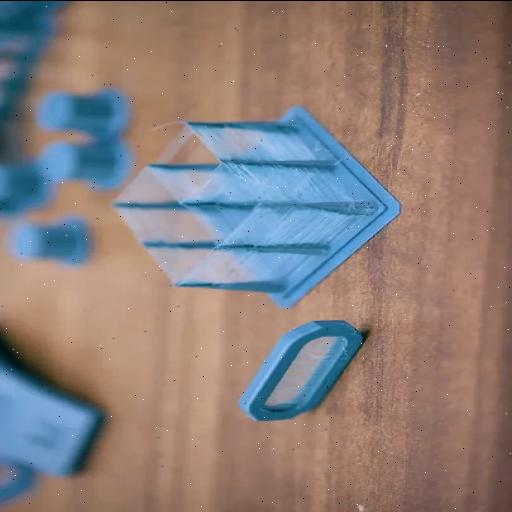stringing: (183, 206, 359, 279), (225, 161, 356, 200), (190, 123, 317, 161), (184, 204, 300, 245), (266, 336, 332, 407), (149, 166, 269, 204), (154, 126, 257, 164), (113, 167, 216, 204), (145, 248, 255, 282), (116, 208, 225, 239)
